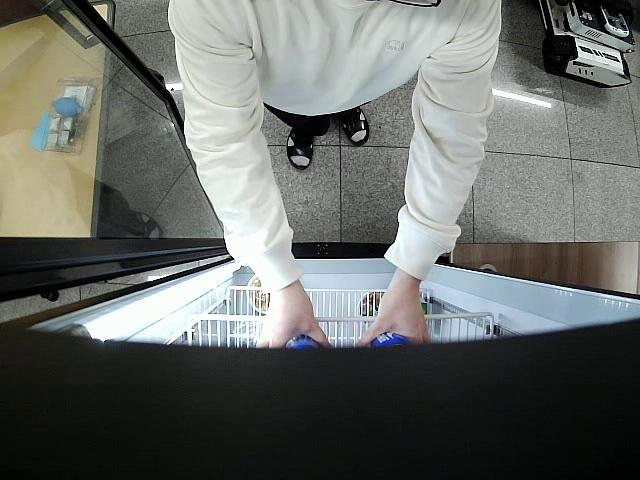00_hand: (251, 298, 331, 349), (354, 294, 432, 345)
13_pocariSweat: (366, 326, 413, 349), (280, 332, 322, 356)
